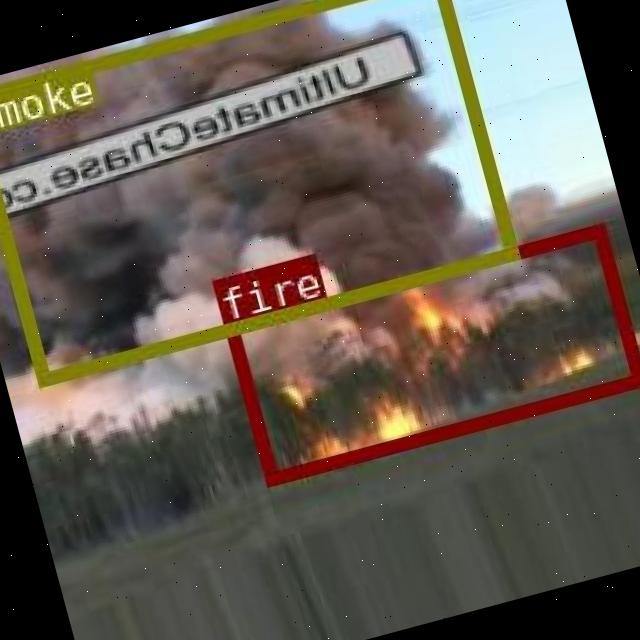fire: (220, 221, 640, 485)
smoke: (0, 0, 515, 382)
